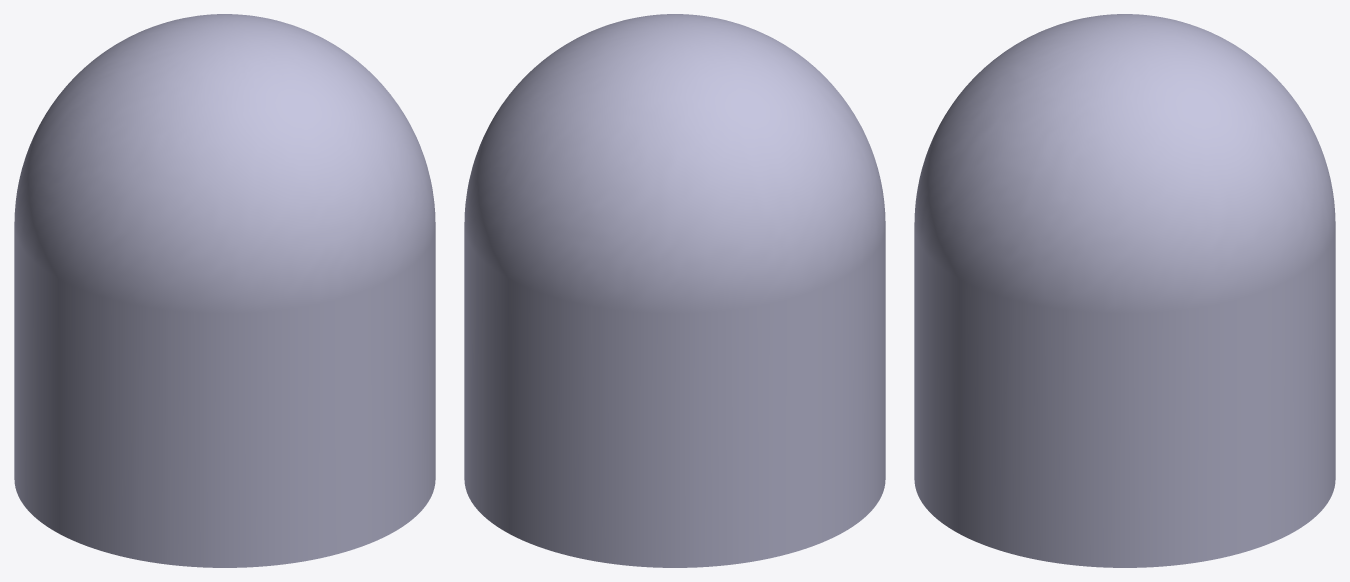
The model's file is OUTFITTING_INTERIOR__EXT. INSTRUMENTS__FWD MAST__HV2__INSTRUMENTS__FLIR MD-625.glb.
3 views of the same model, side by side, from view 1: azimuth 30°, elevation 25°; view 2: azimuth 150°, elevation 25°; view 3: azimuth 270°, elevation 25° (orthographic).
Parts seen in each view (by area): view 1: FLIR MD-625; view 2: FLIR MD-625; view 3: FLIR MD-625.
Part boxes in pixels (x1,y1,x2,y2): FLIR MD-625: [14, 14, 435, 567]; FLIR MD-625: [464, 14, 885, 567]; FLIR MD-625: [914, 14, 1335, 567].
Size of the model in its own units: 0.1524 by 0.1778 by 0.1524.
